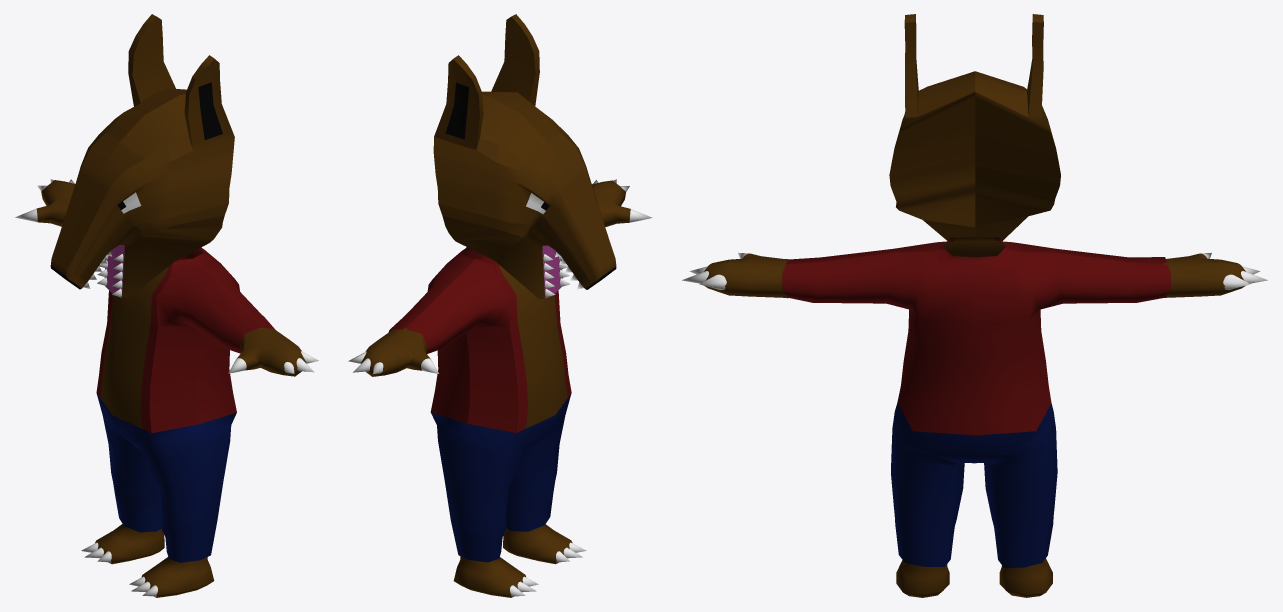
File: Wolf Costume test.fbx
3 renders of one model, left to right at view 1: azimuth 30°, elevation 25°; view 2: azimuth 150°, elevation 25°; view 3: azimuth 270°, elevation 25°, orthographic. The views are drawn at different scales.
Parts seen in each view (by area): view 1: polySurface66; view 2: polySurface66; view 3: polySurface66.
Part boxes in pixels (x1=…): polySurface66: x1=15, y1=14, x2=318, y2=597; polySurface66: x1=348, y1=14, x2=652, y2=597; polySurface66: x1=682, y1=14, x2=1267, y2=597.
Size of the model in its own units: 6.36 by 19.84 by 18.04.
